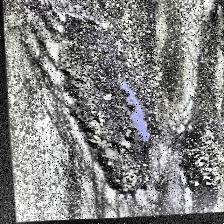pothole: (52, 22, 158, 200)
